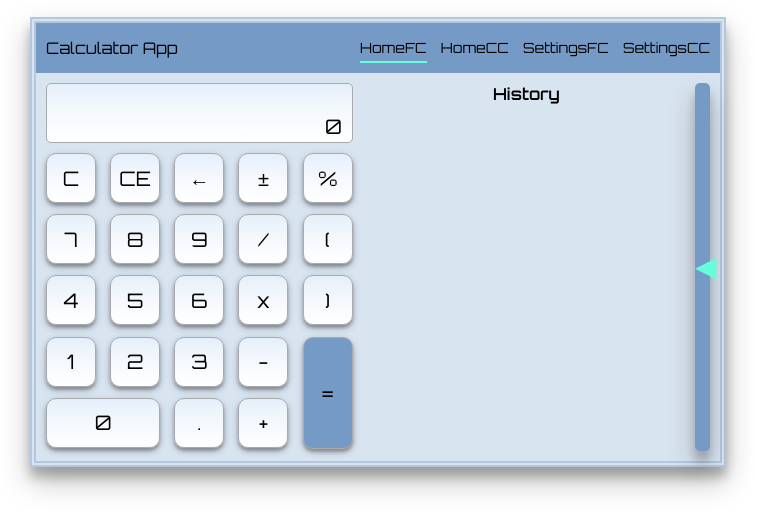
basic arithmetic operation › check the sum function
Click the button "1": {"x": 71, "y": 362} [46,337,96,387]
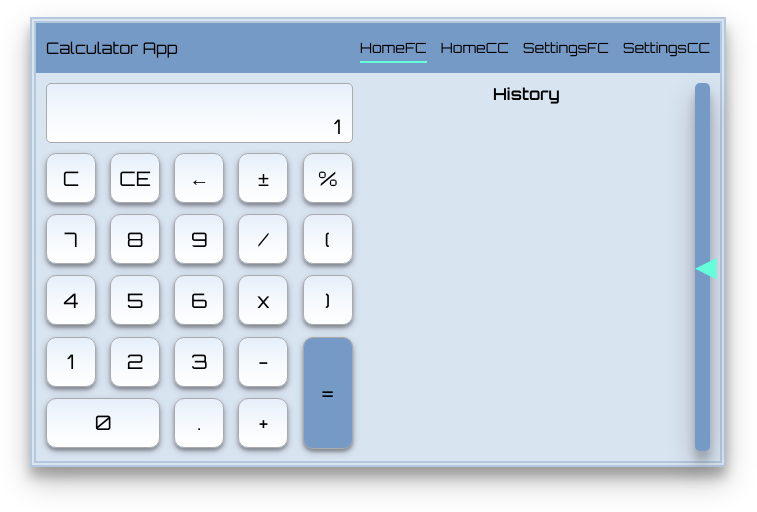
Click the button "+": {"x": 264, "y": 423} [239,398,289,448]
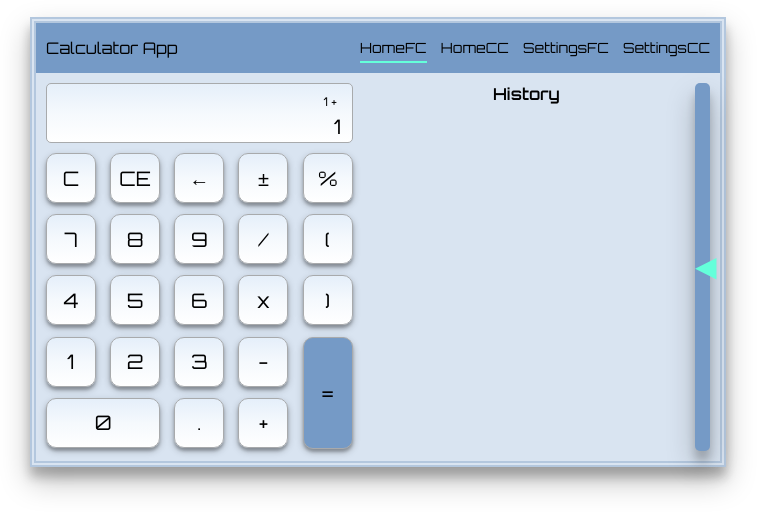
Click the button "2": {"x": 135, "y": 362} [110,337,160,387]
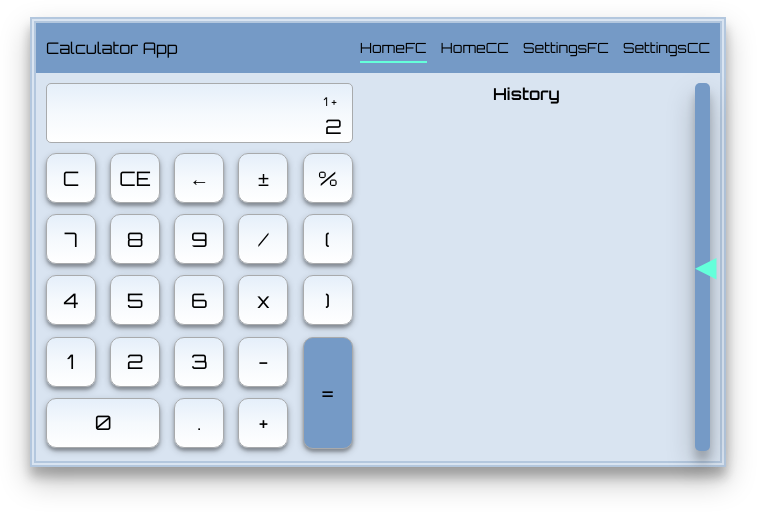
Click the button "=": {"x": 328, "y": 394} [303,337,353,450]
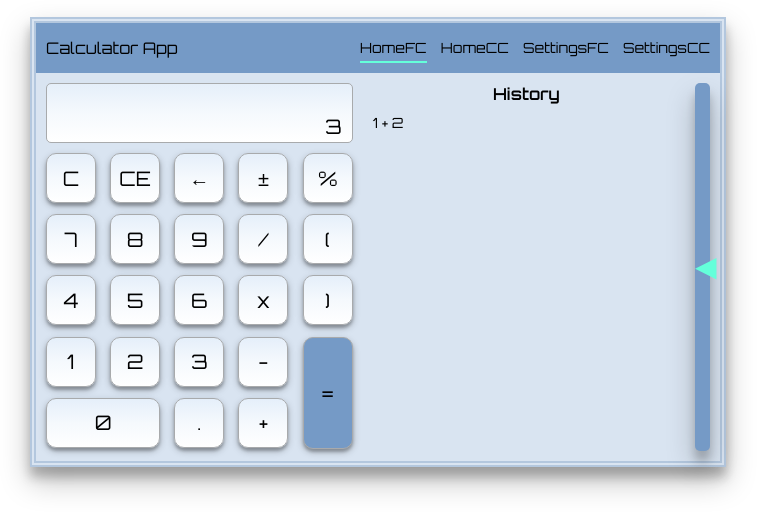
Check: the field holds "3", box [64,114,342,139]
